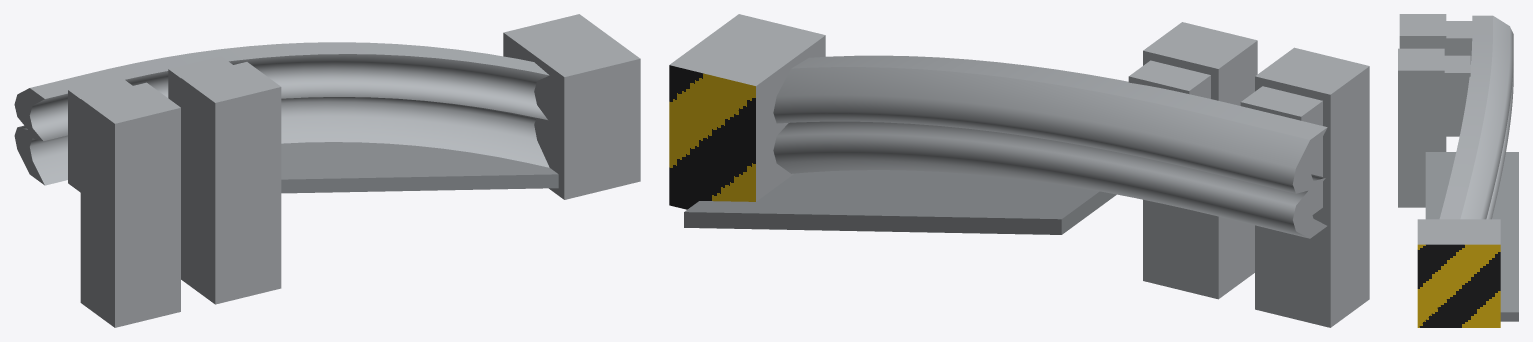
Rendered from guardrail_end_terminal.obj.
3 renders of one model, left to right at view 1: azimuth 30°, elevation 25°; view 2: azimuth 150°, elevation 25°; view 3: azimuth 270°, elevation 25°, orthographic. The views are drawn at different scales.
Visible parts, largest first — view 1: guardrail_end_terminal; view 2: guardrail_end_terminal; view 3: guardrail_end_terminal.
Boxes of the visible parts, left/top/right/bottom form: guardrail_end_terminal: left=14, top=14, right=640, bottom=327; guardrail_end_terminal: left=669, top=14, right=1369, bottom=327; guardrail_end_terminal: left=1398, top=14, right=1518, bottom=327.
Size of the model in its own units: 2.1 by 0.7375 by 0.5823.
